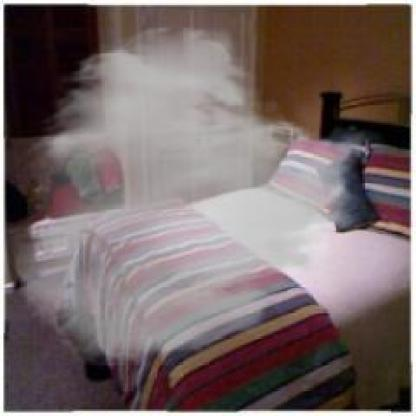Smoke: (11, 22, 372, 370)
